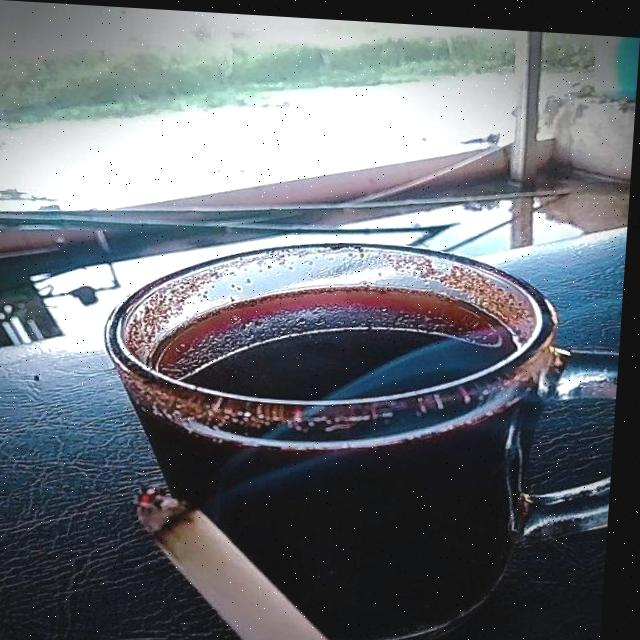cigarette: (136, 476, 366, 640)
